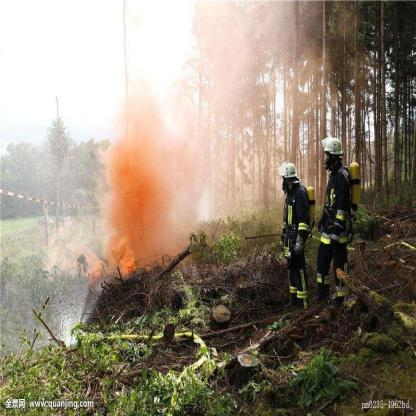fire: (96, 224, 141, 281)
other: (5, 188, 101, 211)
smoke: (112, 89, 202, 224)
